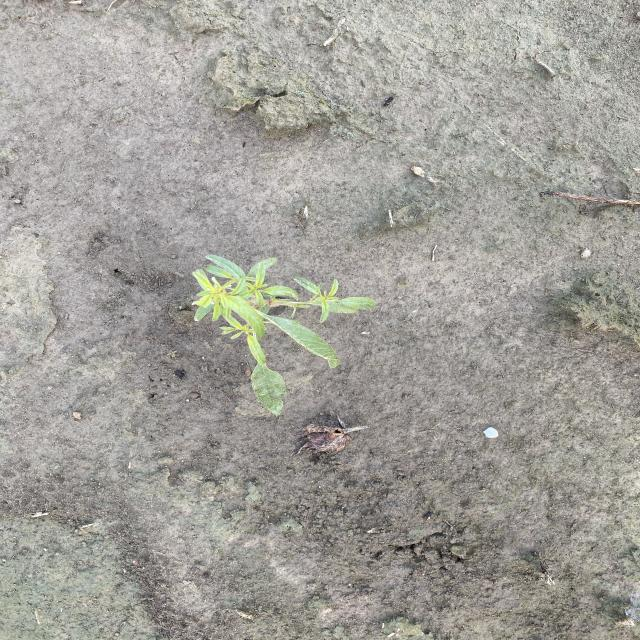Waterhemp: (190, 254, 379, 417)
